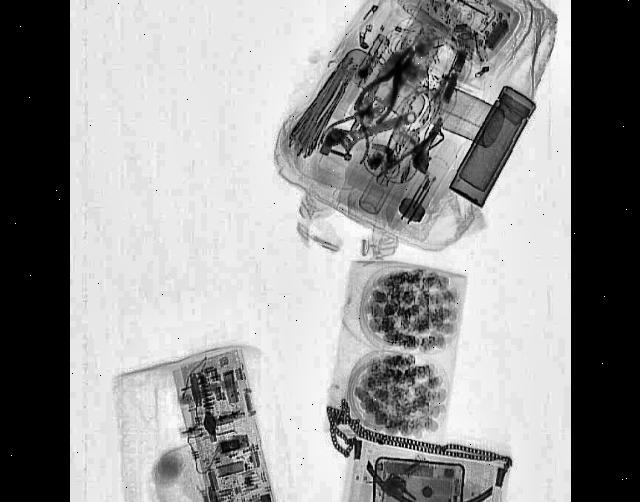Pliers: (352, 29, 424, 137), (316, 79, 384, 182)
Wrench: (317, 102, 417, 164)
